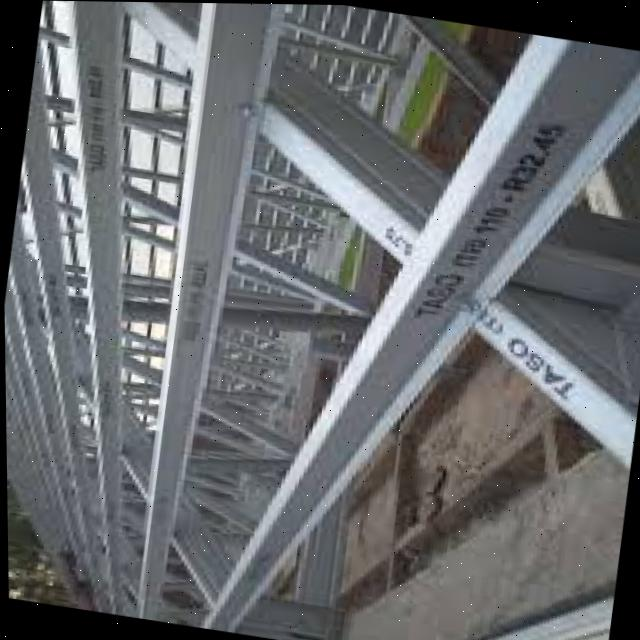Dry: (0, 0, 603, 592)
